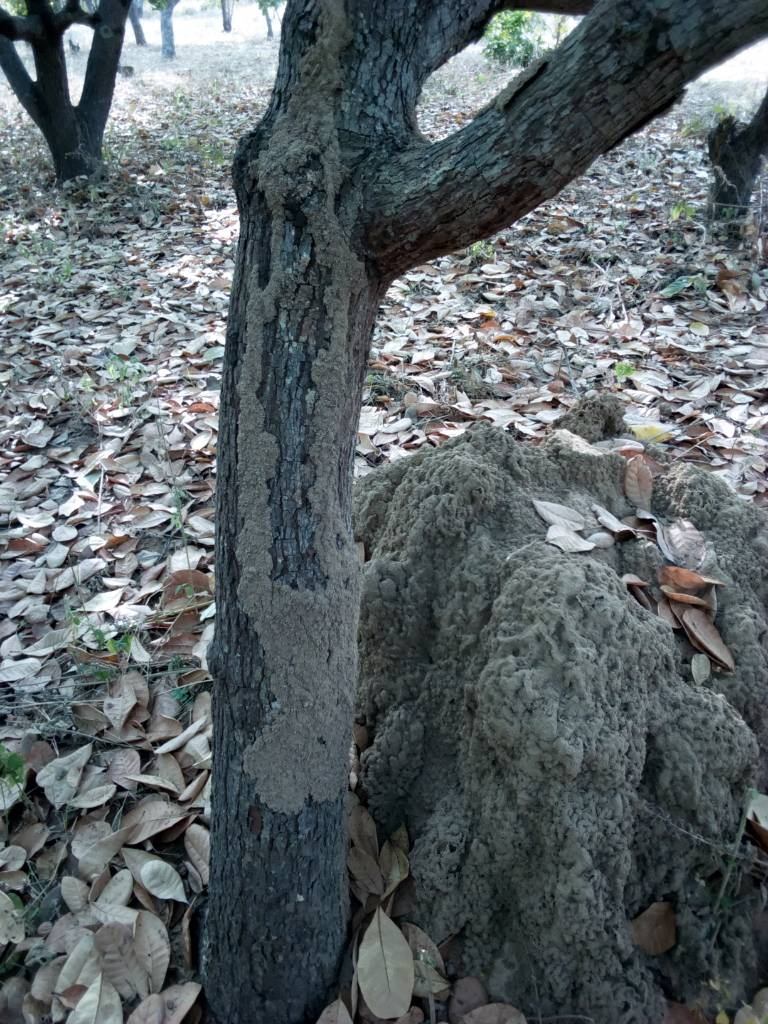Termites: (396, 446, 768, 1014), (232, 285, 366, 805), (258, 19, 360, 278)
